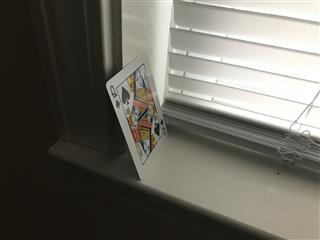QueenOfSpades: (104, 49, 169, 180)
